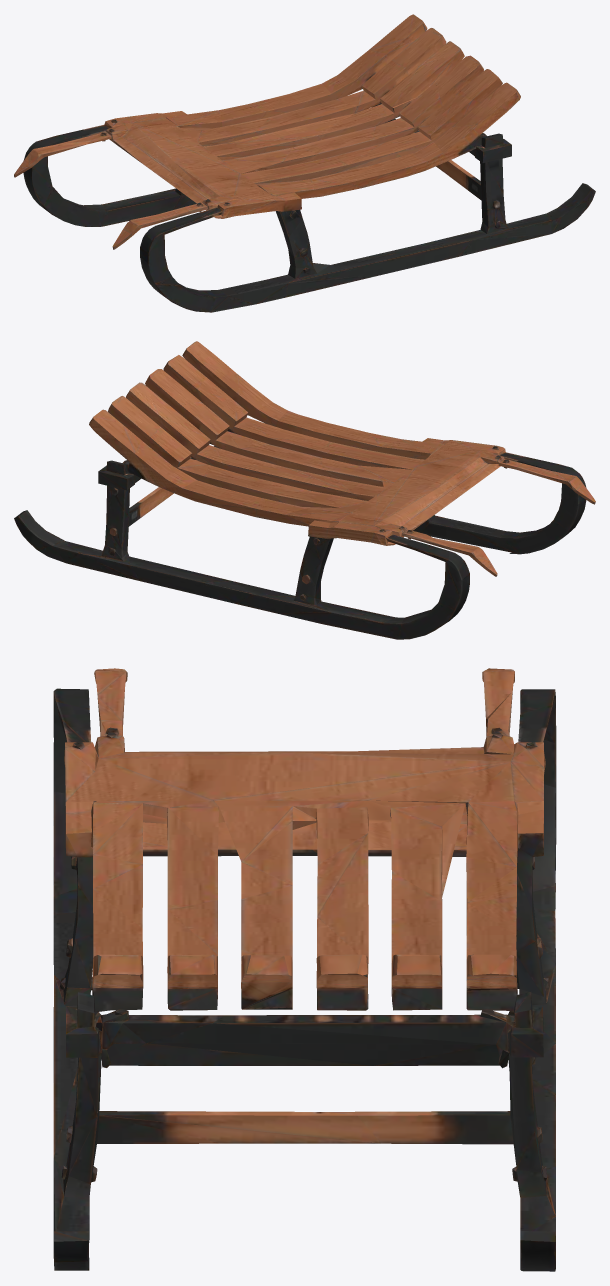
The model's file is sledge.glb.
The picture shows the model from 3 angles, top to bottom: view 1: azimuth 30°, elevation 25°; view 2: azimuth 150°, elevation 25°; view 3: azimuth 270°, elevation 25°; orthographic projection. The views are drawn at different scales.
Size of the model in its own units: 1.9 by 0.5511 by 0.8794.
Materials: 1 (1 with a texture image).
